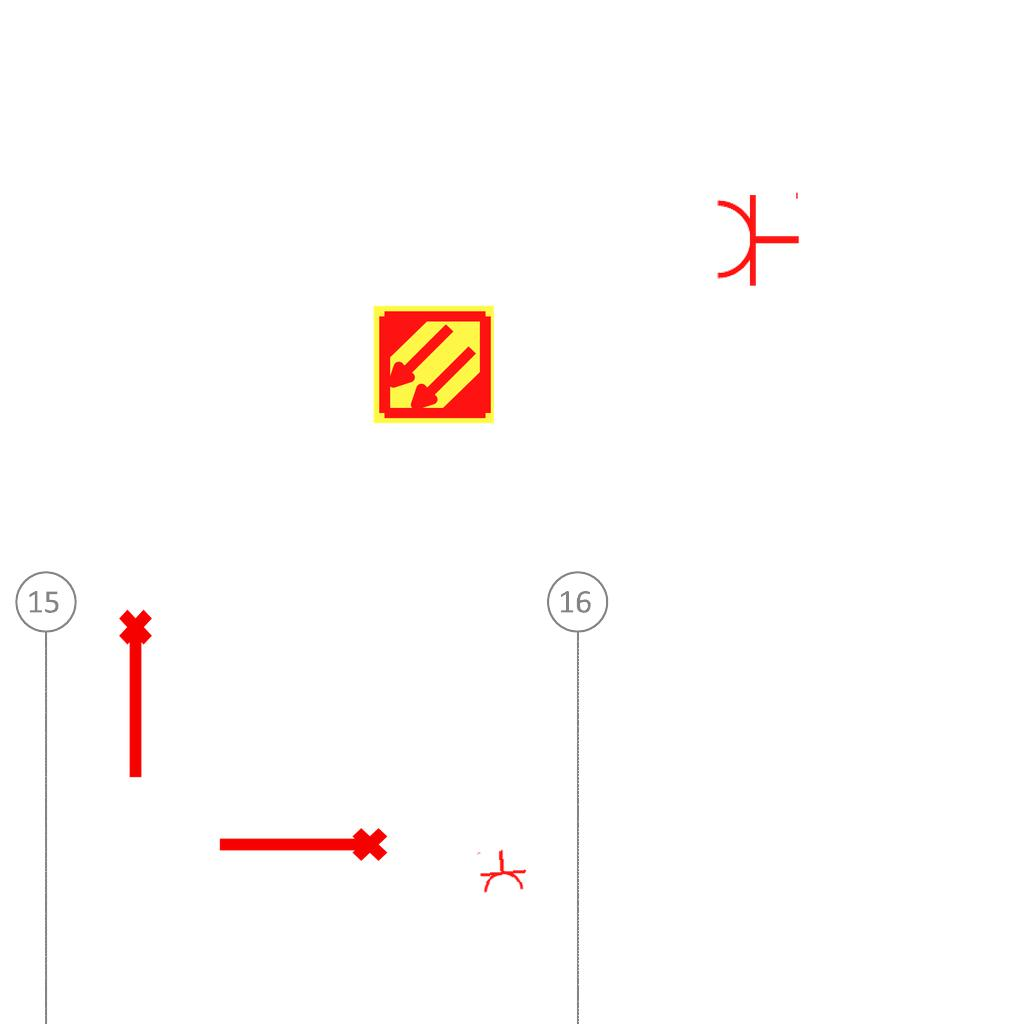ASR_Ansaugoeffnung: (214, 824, 390, 870), (115, 607, 161, 783)
ASR_Ansaugrauchmelder: (371, 302, 496, 427)
Schukosteckdose_einfach: (714, 188, 801, 288), (474, 847, 529, 895)
